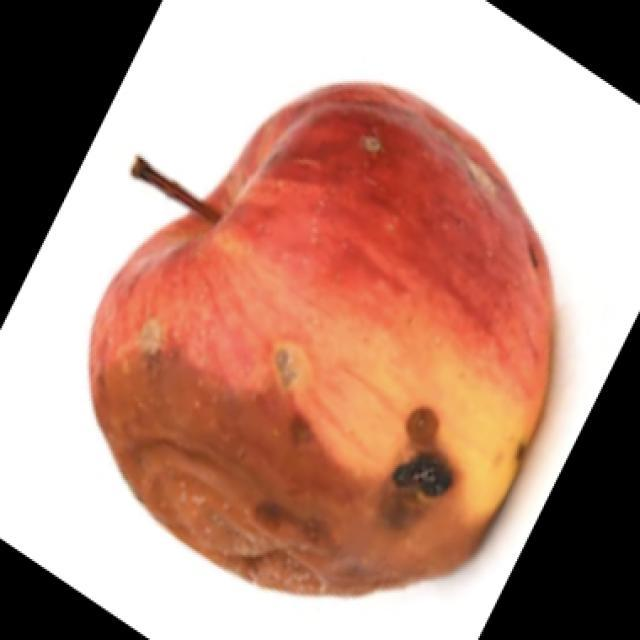Rotten: (78, 75, 557, 595)
